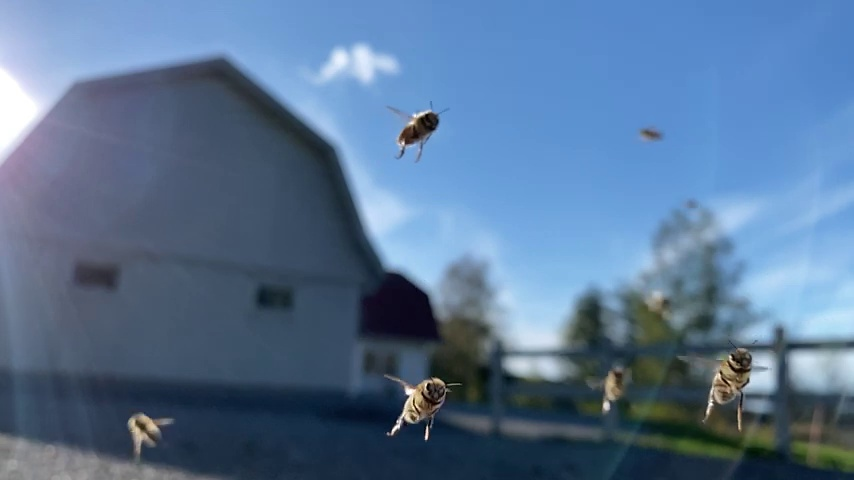insect: (681, 340, 766, 421), (380, 374, 463, 436), (382, 99, 448, 163), (121, 412, 172, 460), (582, 363, 631, 412), (638, 127, 665, 146)
